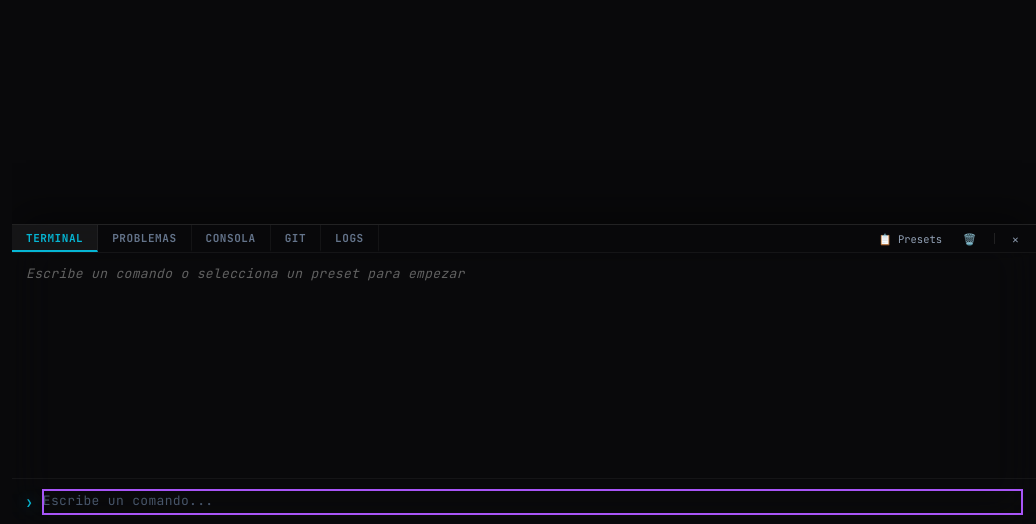
TerminalPanel › should fill input when selecting a preset
The image size is (1036, 524).
Open preset dropdown
Click the button "📋 Presets" at (910, 239), box [872,230,949,247]
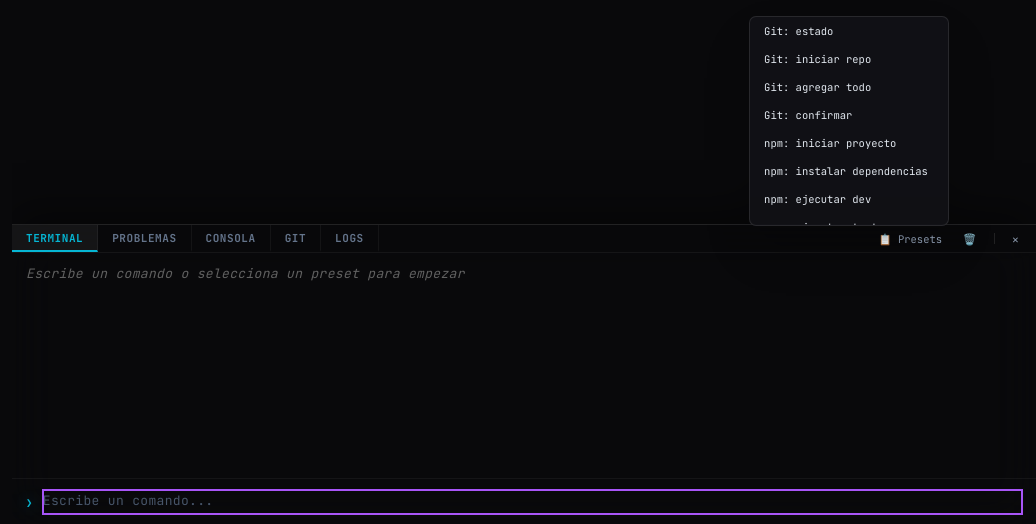
Select "Git: estado"
Click the menu item "Git: estado" at (849, 31), box [750,17,948,45]
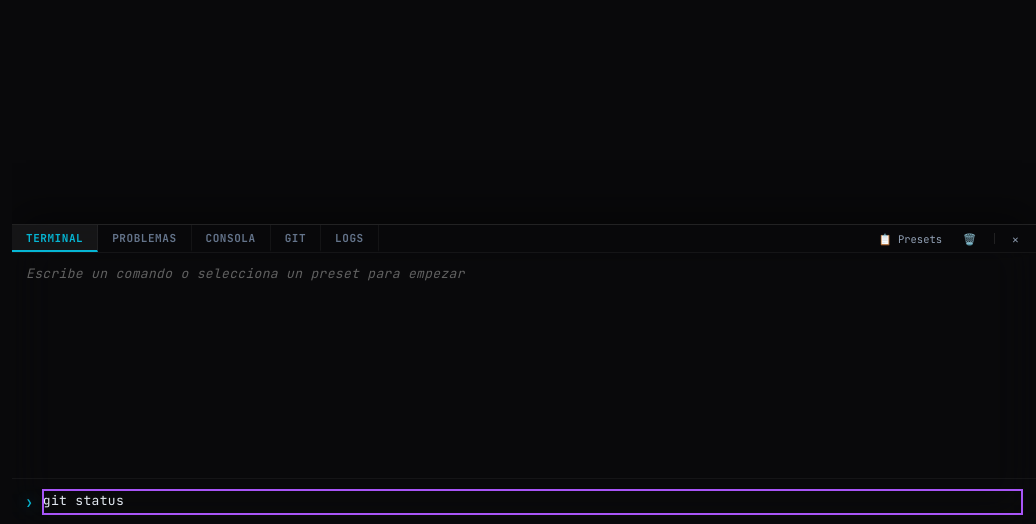
Now the text box with placeholder "Escribe un comando..." holds "git status", box [43,490,1022,514]
